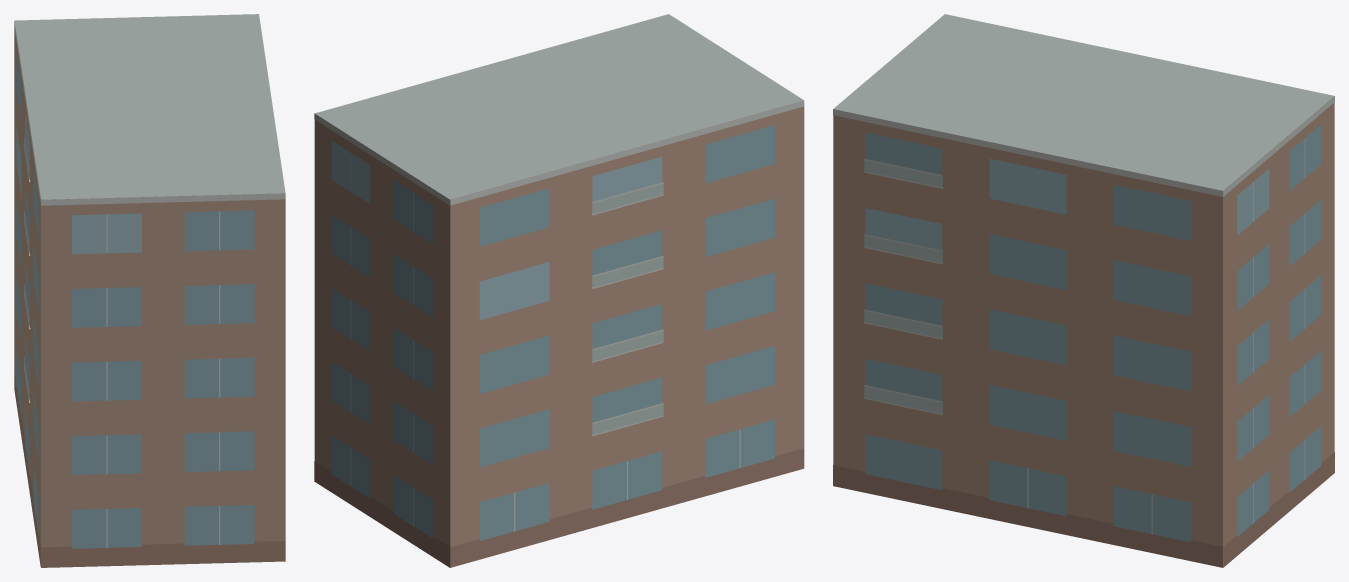
File: residential-c487f9a7-4933-4694-a7b5-b83df1116c32.glb
The picture shows the model from 3 angles, left to right: view 1: azimuth 30°, elevation 25°; view 2: azimuth 150°, elevation 25°; view 3: azimuth 270°, elevation 25°; orthographic projection. The views are drawn at different scales.
Visible parts, largest first — view 1: residential-c487f9a7-4933-4694-a7b5-b83df1116c32.tmp; view 2: residential-c487f9a7-4933-4694-a7b5-b83df1116c32.tmp; view 3: residential-c487f9a7-4933-4694-a7b5-b83df1116c32.tmp.
Boxes of the visible parts, x1,y1,x2,y2 form: residential-c487f9a7-4933-4694-a7b5-b83df1116c32.tmp: (14, 14, 285, 567); residential-c487f9a7-4933-4694-a7b5-b83df1116c32.tmp: (314, 14, 804, 567); residential-c487f9a7-4933-4694-a7b5-b83df1116c32.tmp: (833, 14, 1334, 567).
Bounding box in the file's own units: 15.1 × 15 × 18.1.
